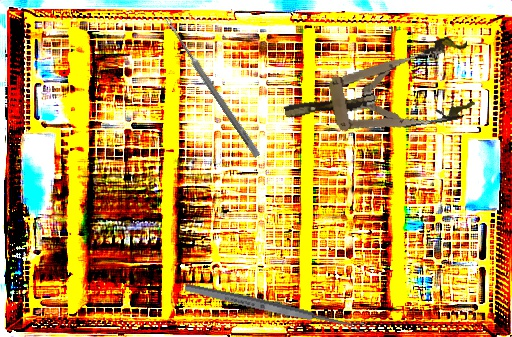Speculum: (276, 33, 482, 152)
Surgical Spoon: (162, 15, 262, 159), (184, 281, 366, 335)
